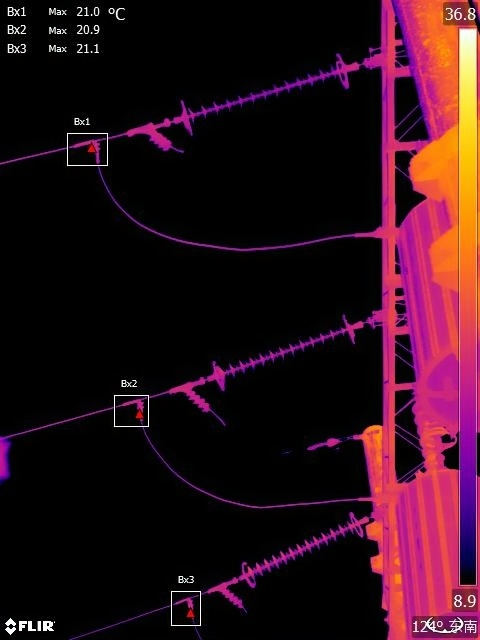clamp: (128, 390, 146, 416), (87, 129, 104, 155), (181, 590, 196, 615)
insulator: (176, 49, 356, 140), (213, 310, 364, 391), (229, 512, 373, 584)
tube: (144, 121, 178, 158), (178, 387, 218, 416), (211, 583, 246, 612)
